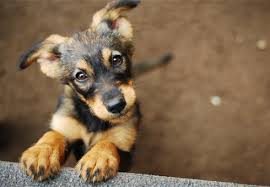dog: (26, 13, 157, 126)
